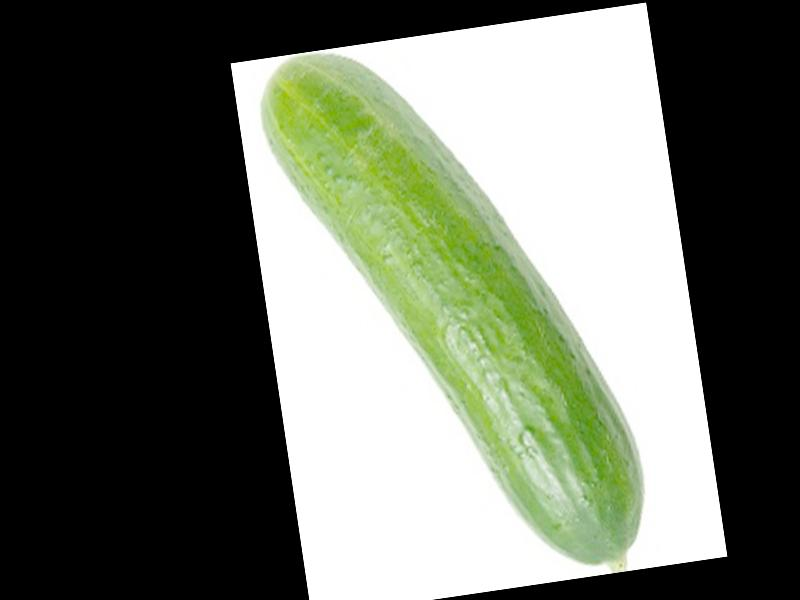Cucumber: (255, 14, 657, 600)
